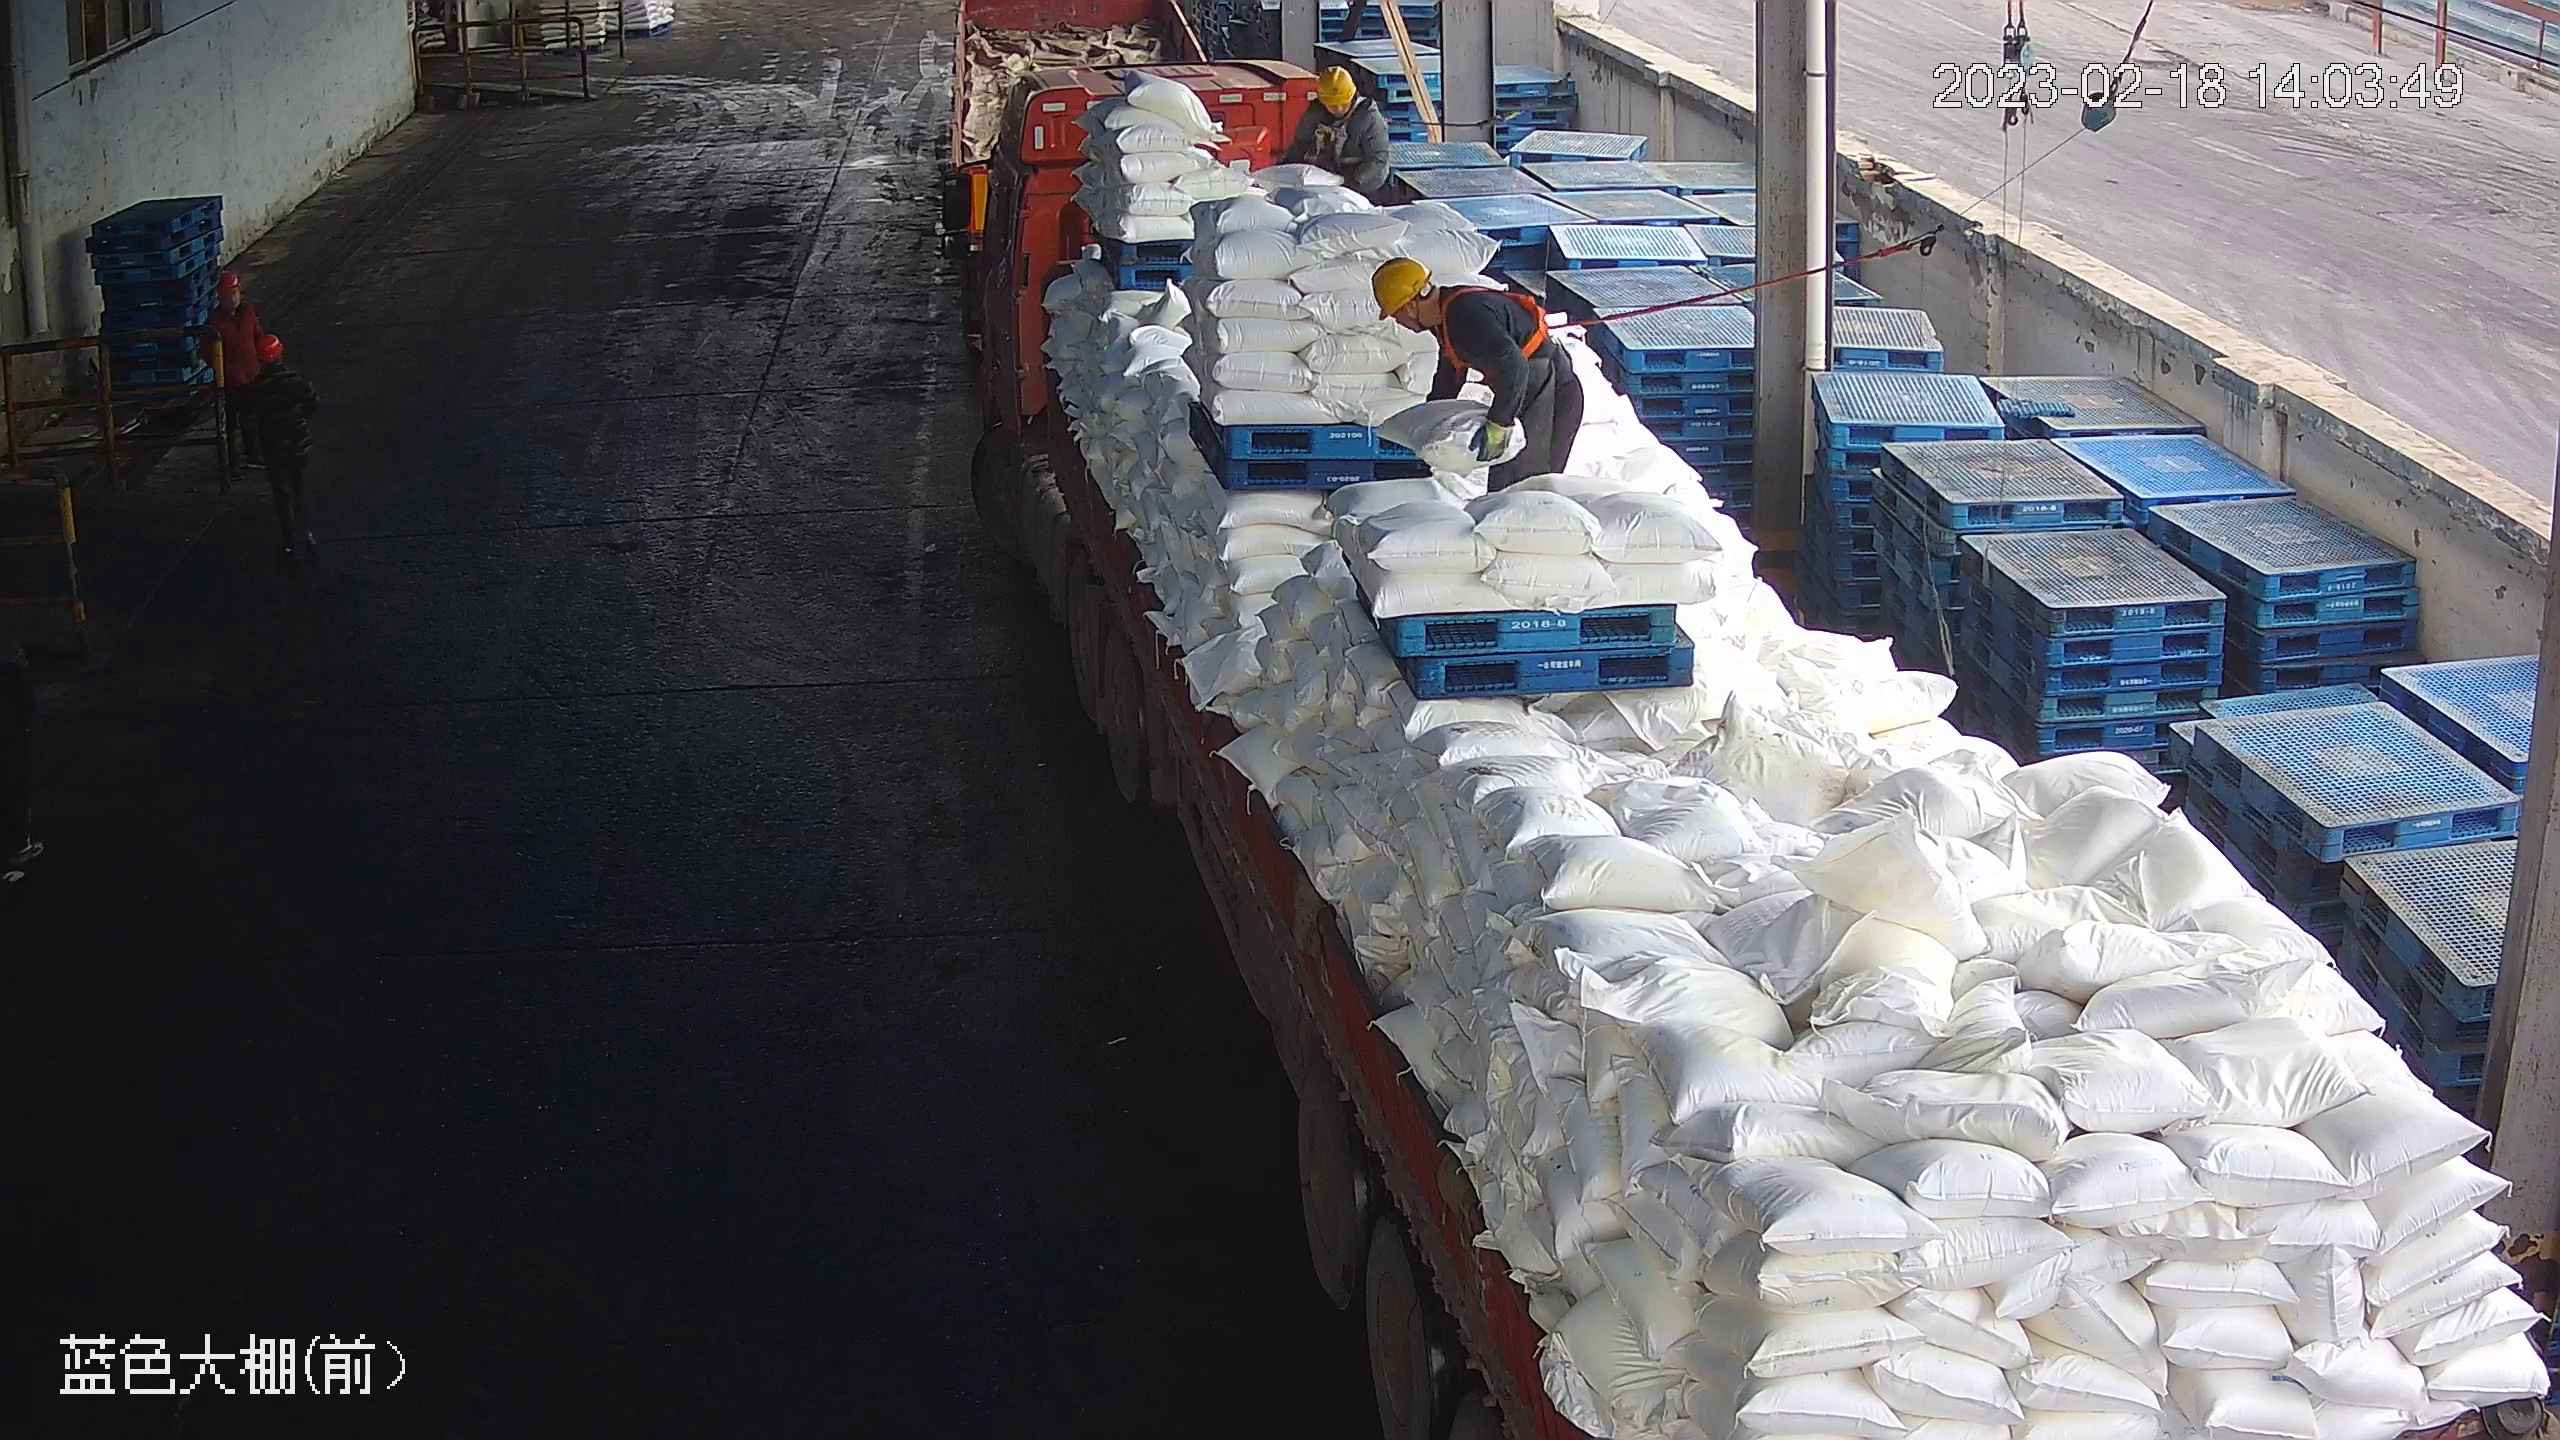belt: (1433, 274, 1558, 377), (1306, 103, 1371, 165)
head: (1368, 252, 1496, 353), (1295, 65, 1383, 137), (239, 332, 312, 401), (207, 263, 261, 334)
helmet: (1371, 254, 1433, 316), (1313, 64, 1356, 104), (248, 331, 281, 360), (214, 271, 243, 295)
people: (1371, 250, 1587, 500), (242, 328, 322, 560), (207, 263, 269, 483)
truck: (957, 37, 2553, 1440)
